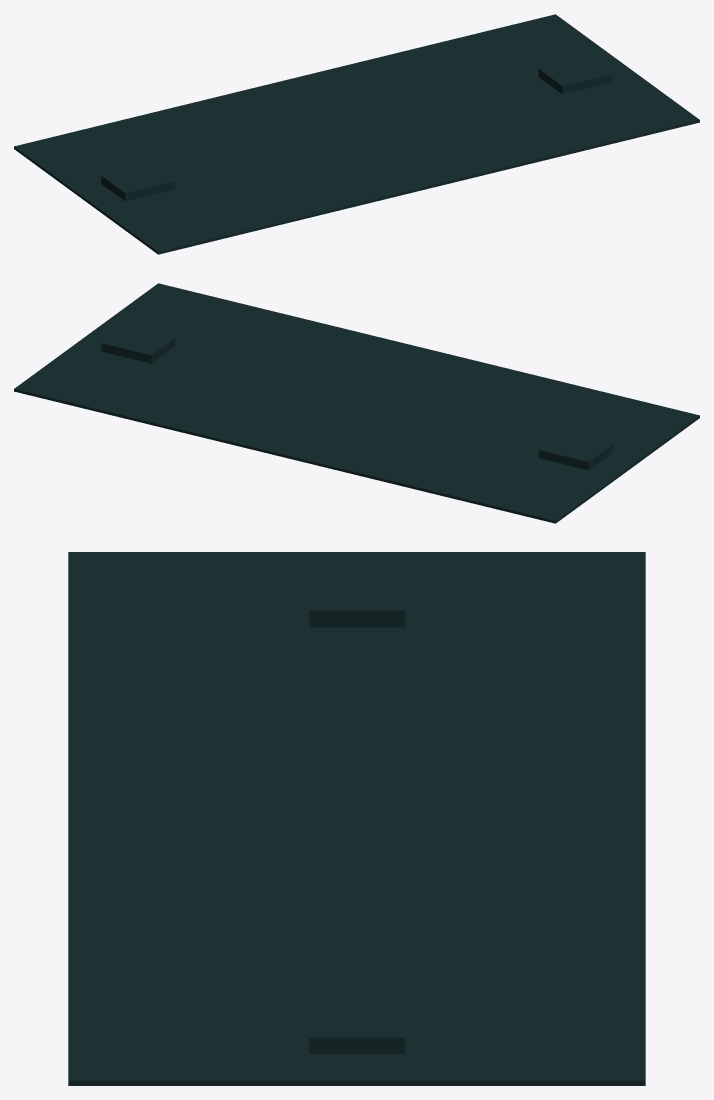
Rendered from oc_plaza_01_collision.glb.
The picture shows the model from 3 angles, top to bottom: view 1: azimuth 30°, elevation 25°; view 2: azimuth 150°, elevation 25°; view 3: azimuth 270°, elevation 25°; orthographic projection. The views are drawn at different scales.
Visible parts, largest first — view 1: COL_Slab, COL_Planter-1, COL_Planter1; view 2: COL_Slab, COL_Planter-1, COL_Planter1; view 3: COL_Slab, COL_Planter1, COL_Planter-1.
Boxes of the visible parts, box(x1,y1,x2,y2) form: COL_Slab: box(14, 14, 699, 254); COL_Planter-1: box(101, 163, 175, 201); COL_Planter1: box(538, 56, 612, 94); COL_Slab: box(14, 283, 699, 523); COL_Planter-1: box(538, 432, 612, 470); COL_Planter1: box(101, 325, 175, 363); COL_Slab: box(68, 552, 645, 1085); COL_Planter1: box(309, 989, 404, 1054); COL_Planter-1: box(309, 562, 404, 627).
Size of the model in its own units: 26 by 0.5 by 12.
